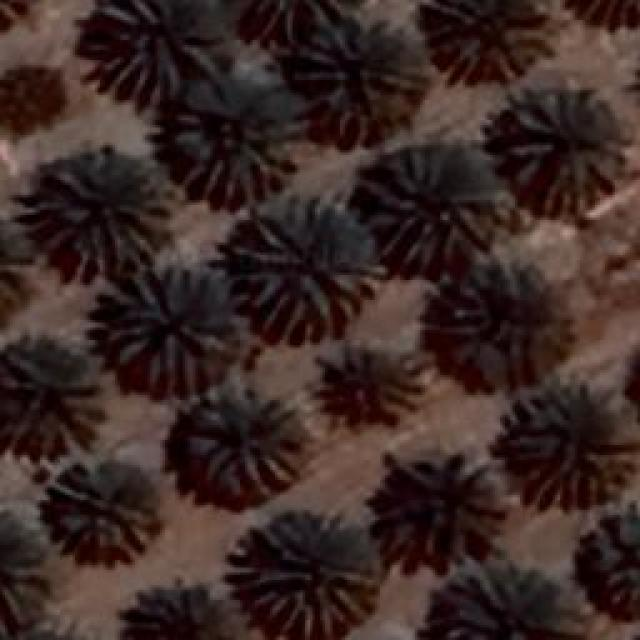PalmTree: (227, 190, 385, 342), (20, 150, 170, 272), (230, 512, 375, 638), (362, 145, 508, 270), (95, 260, 230, 395), (495, 375, 630, 510), (300, 12, 428, 146), (498, 87, 630, 215), (74, 2, 228, 108), (185, 378, 310, 492), (425, 552, 580, 638), (184, 75, 296, 190), (447, 282, 555, 386), (375, 461, 495, 554), (2, 350, 108, 455), (16, 75, 72, 266), (48, 460, 160, 552), (425, 0, 550, 80), (312, 340, 422, 425), (0, 514, 62, 637), (590, 502, 638, 616), (124, 590, 216, 640), (224, 0, 356, 34), (561, 0, 640, 26), (0, 0, 38, 37)
